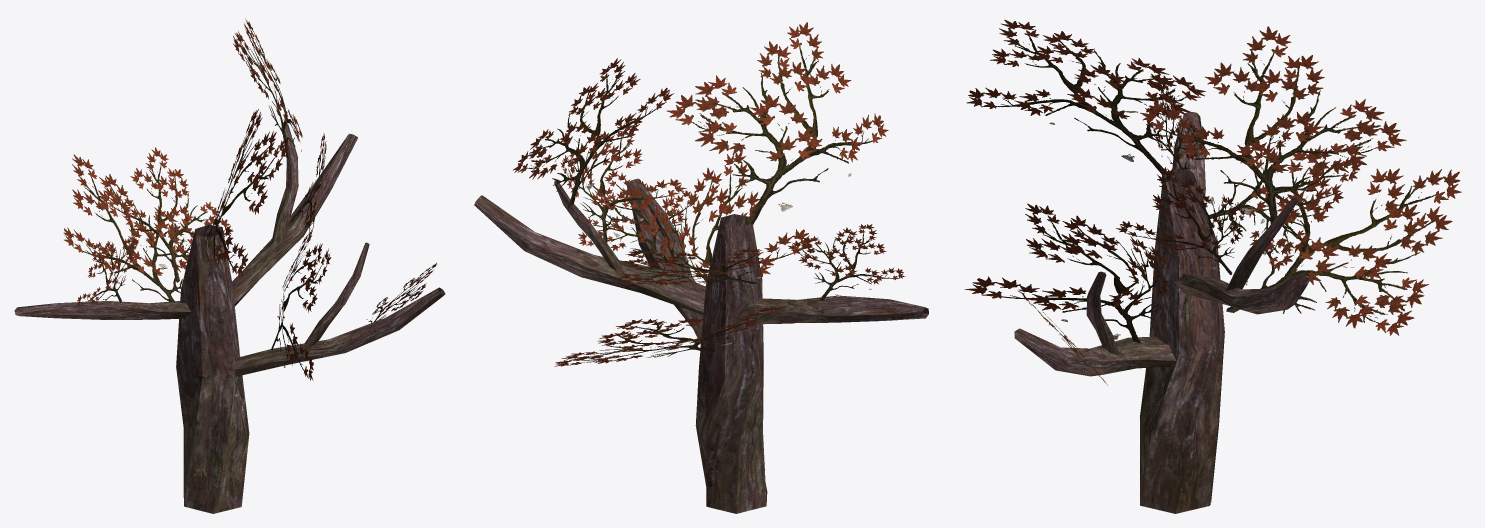
Rendered from shamo_shu_2.fbx.
3 renders of one model, left to right at view 1: azimuth 30°, elevation 25°; view 2: azimuth 150°, elevation 25°; view 3: azimuth 270°, elevation 25°, orthographic. The views are drawn at different scales.
Parts seen in each view (by area): view 1: polySurface196, polySurface200, polySurface211, polySurface198, polySurface215, polySurface195, polySurface208, polySurface206, polySurface202, polySurface197, polySurface203, polySurface199 (+5 smaller); view 2: polySurface196, polySurface208, polySurface198, polySurface195, polySurface202, polySurface206, polySurface212, polySurface210, polySurface204, polySurface216, polySurface214, polySurface200 (+5 smaller); view 3: polySurface196, polySurface201, polySurface211, polySurface207, polySurface205, polySurface200, polySurface215, polySurface198, polySurface209, polySurface197, polySurface195, polySurface199 (+3 smaller).
Part boxes in pixels (left/top/right/bottom): polySurface196: left=176, top=225, right=249, bottom=513; polySurface200: left=234, top=287, right=445, bottom=376; polySurface211: left=64, top=154, right=193, bottom=301; polySurface198: left=232, top=133, right=357, bottom=306; polySurface215: left=101, top=147, right=233, bottom=282; polySurface195: left=14, top=301, right=191, bottom=319; polySurface208: left=204, top=109, right=288, bottom=276; polySurface206: left=271, top=234, right=331, bottom=380; polySurface202: left=233, top=20, right=302, bottom=159; polySurface197: left=271, top=123, right=298, bottom=243; polySurface203: left=76, top=237, right=138, bottom=307; polySurface199: left=304, top=242, right=369, bottom=347; polySurface196: left=695, top=214, right=767, bottom=513; polySurface208: left=666, top=22, right=888, bottom=224; polySurface198: left=474, top=195, right=705, bottom=314; polySurface195: left=737, top=295, right=928, bottom=324; polySurface202: left=513, top=58, right=673, bottom=208; polySurface206: left=649, top=152, right=812, bottom=282; polySurface212: left=554, top=305, right=785, bottom=366; polySurface210: left=561, top=121, right=686, bottom=243; polySurface204: left=787, top=224, right=905, bottom=301; polySurface216: left=619, top=249, right=763, bottom=285; polySurface214: left=578, top=170, right=696, bottom=259; polySurface200: left=628, top=178, right=725, bottom=372; polySurface196: left=1140, top=168, right=1224, bottom=513; polySurface201: left=1140, top=26, right=1406, bottom=224; polySurface211: left=1226, top=146, right=1461, bottom=335; polySurface207: left=967, top=20, right=1205, bottom=180; polySurface205: left=965, top=203, right=1168, bottom=343; polySurface200: left=1014, top=328, right=1176, bottom=376; polySurface215: left=1208, top=114, right=1360, bottom=270; polySurface198: left=1173, top=273, right=1309, bottom=314; polySurface209: left=1115, top=166, right=1245, bottom=274; polySurface197: left=1226, top=197, right=1298, bottom=290; polySurface195: left=1172, top=112, right=1205, bottom=202; polySurface199: left=1086, top=271, right=1118, bottom=354.
Bounding box in the file's own units: 14.57 × 15.76 × 14.06.
